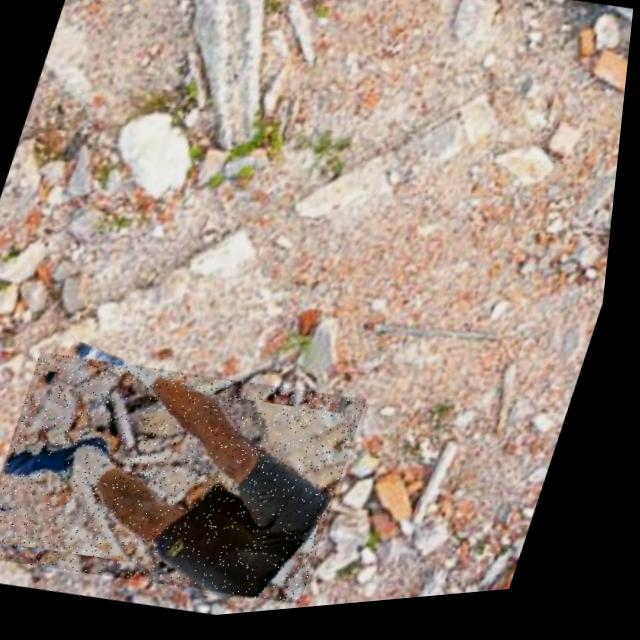Person in Rubble: (0, 329, 381, 634)
